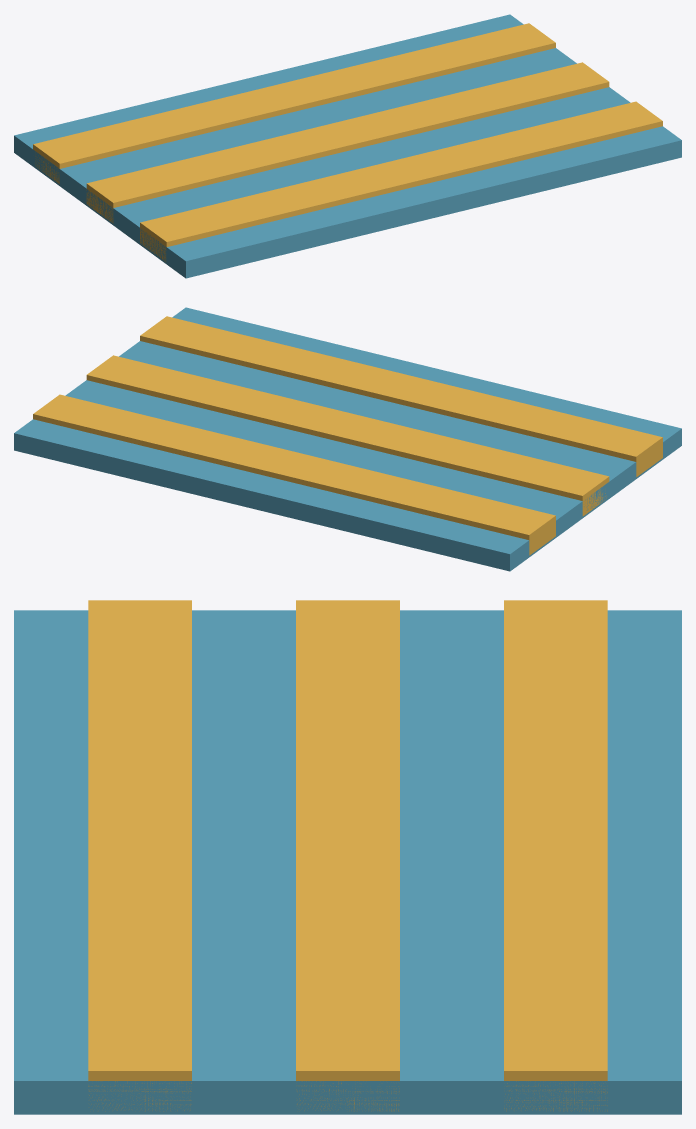
Rendered from xy_town_towel.glb.
3 renders of one model, top to bottom at view 1: azimuth 30°, elevation 25°; view 2: azimuth 150°, elevation 25°; view 3: azimuth 270°, elevation 25°, orthographic. The views are drawn at different scales.
Parts seen in each view (by area): view 1: xy_town_towel; view 2: xy_town_towel; view 3: xy_town_towel.
Part boxes in pixels (box(x1,y1,x2,y2)): xy_town_towel: box(14, 14, 681, 278); xy_town_towel: box(14, 307, 681, 571); xy_town_towel: box(14, 600, 681, 1114).
Bounding box in the file's own units: 1.5 × 0.065 × 0.9.
